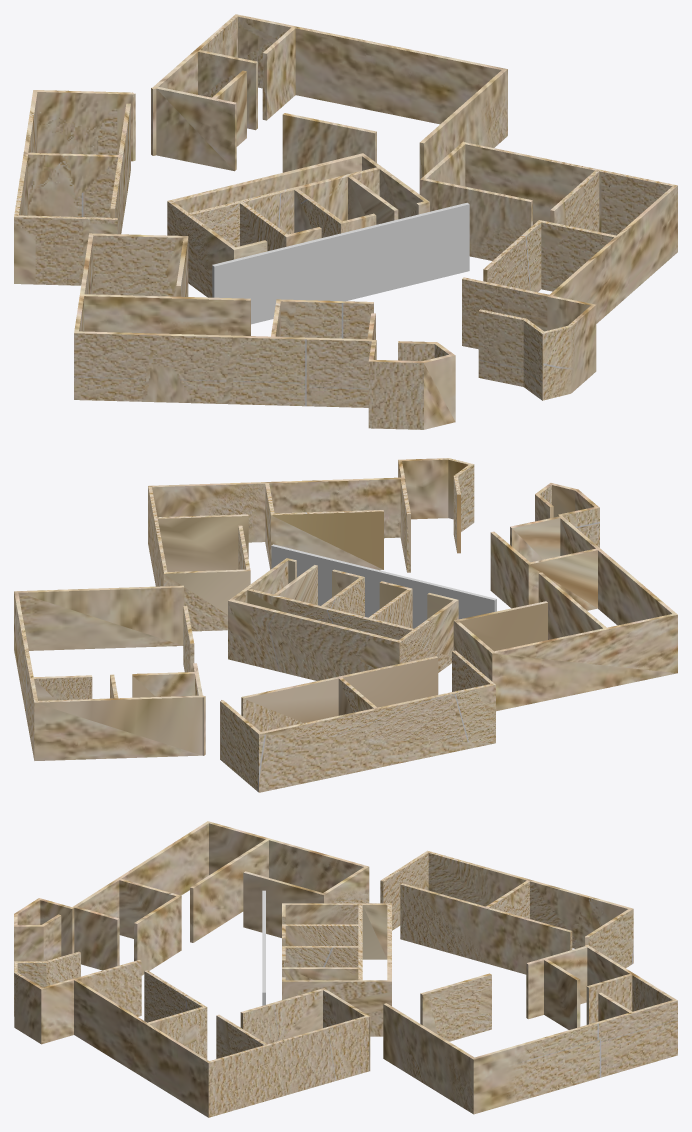
File: plano_texturas_pared_mural.dae
3 renders of one model, top to bottom at view 1: azimuth 30°, elevation 25°; view 2: azimuth 150°, elevation 25°; view 3: azimuth 270°, elevation 25°, orthographic. The views are drawn at different scales.
Parts seen in each view (by area): view 1: Plano_paredes_2, mural; view 2: Plano_paredes_2, mural; view 3: Plano_paredes_2, mural.
Part boxes in pixels (left/top/right/bottom): Plano_paredes_2: left=14, top=14, right=677, bottom=429; mural: left=212, top=202, right=469, bottom=324; Plano_paredes_2: left=14, top=458, right=677, bottom=792; mural: left=271, top=544, right=496, bottom=628; Plano_paredes_2: left=14, top=821, right=677, bottom=1117; mural: left=262, top=890, right=265, bottom=1005.
Size of the model in its own units: 28.88 by 33.49 by 3.05.
2 materials, 1 textured.
